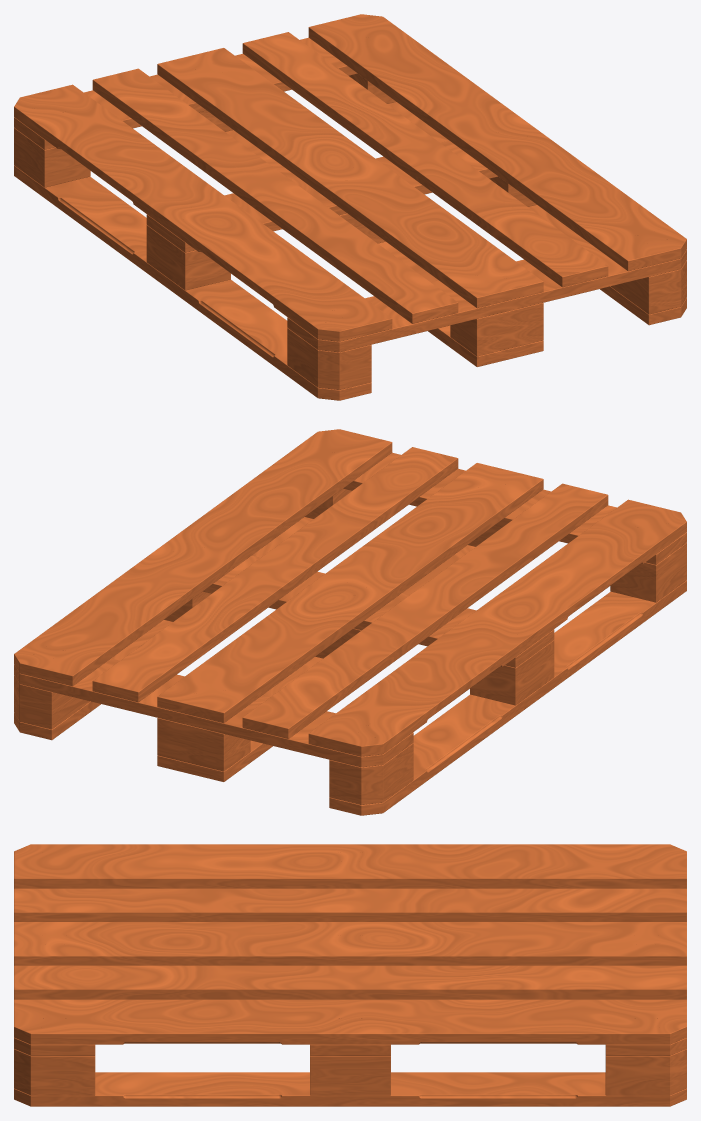
The model's file is sema_pallet.dae.
The picture shows the model from 3 angles, top to bottom: view 1: azimuth 30°, elevation 25°; view 2: azimuth 150°, elevation 25°; view 3: azimuth 270°, elevation 25°; orthographic projection. The views are drawn at different scales.
Parts seen in each view (by area): view 1: Euro Pallet; view 2: Euro Pallet; view 3: Euro Pallet.
Part boxes in pixels (left/top/right/bottom): Euro Pallet: left=14, top=14, right=686, bottom=400; Euro Pallet: left=14, top=429, right=686, bottom=815; Euro Pallet: left=14, top=844, right=686, bottom=1106.
Bounding box in the file's own units: 0.8 × 1.2 × 0.1442.
